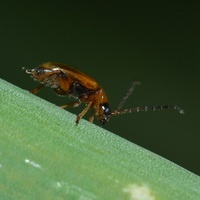insect: (22, 62, 183, 124)
